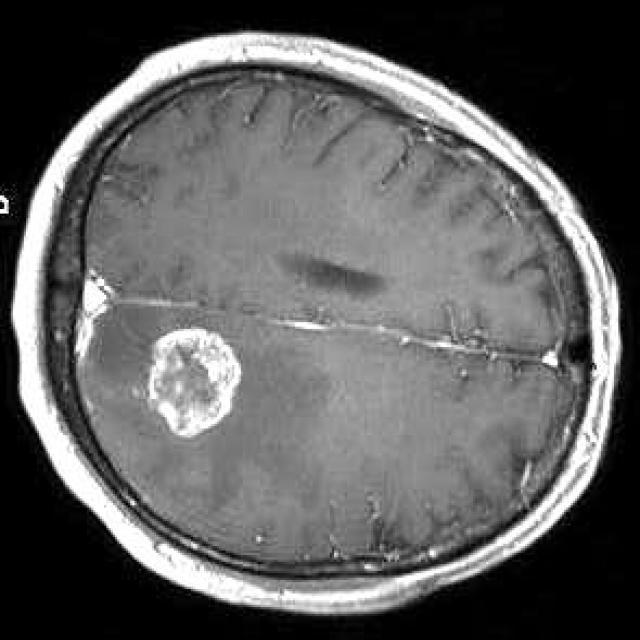tumor: (148, 330, 245, 436)
